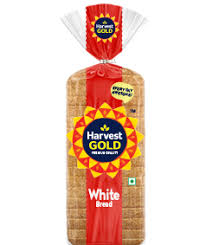bread: (54, 18, 149, 245)
